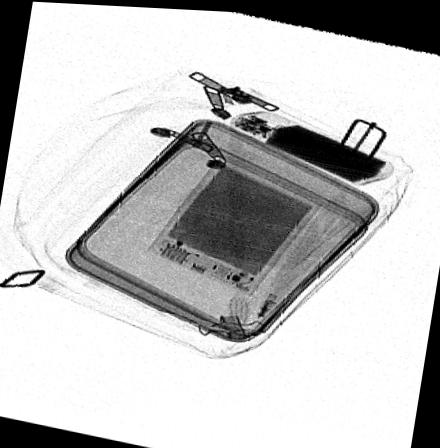Powerbank: (147, 158, 323, 294)
